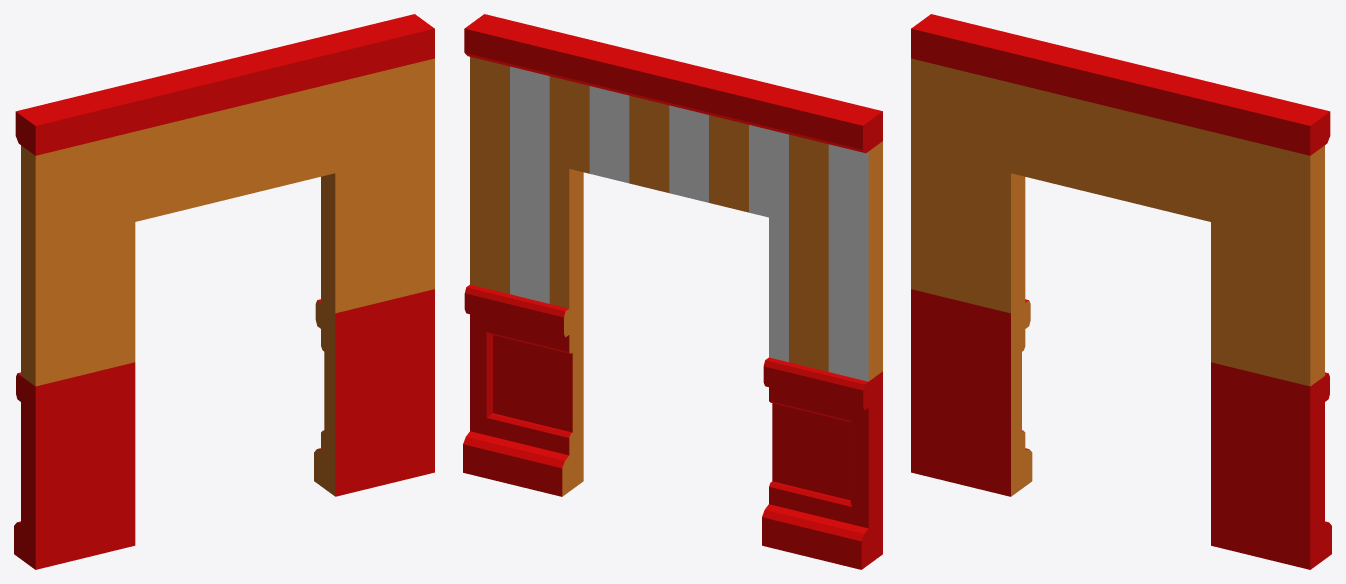
The model's file is Wall_Door_2.fbx.
3 views of the same model, side by side, from view 1: azimuth 30°, elevation 25°; view 2: azimuth 150°, elevation 25°; view 3: azimuth 330°, elevation 25° (orthographic).
Parts seen in each view (by area): view 1: Cube.016; view 2: Cube.016; view 3: Cube.016.
Part boxes in pixels (bbox=[...]): Cube.016: bbox=[14, 14, 434, 569]; Cube.016: bbox=[463, 14, 882, 569]; Cube.016: bbox=[911, 14, 1331, 569].
Size of the model in its own units: 4 by 0.3715 by 4.25.
